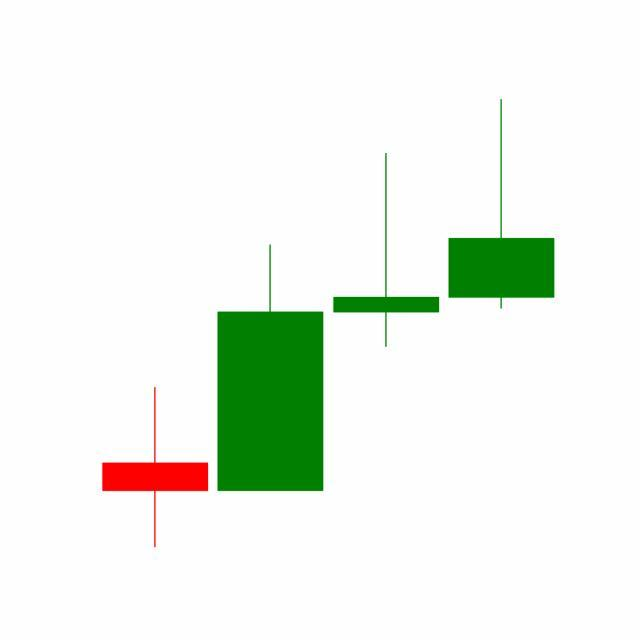Spinning Top: (329, 151, 445, 350)
